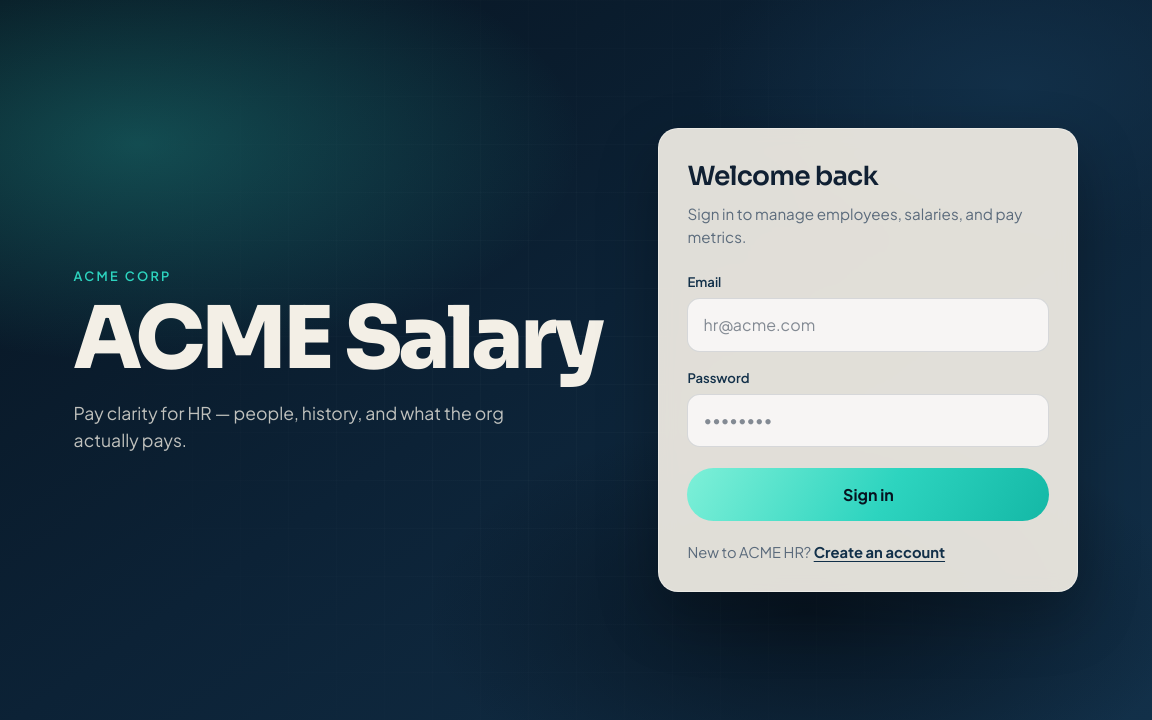
Test: Login page › shows API error on failed login
Type "bad@acme.com" into the field with placeholder "hr@acme.com" at (868, 325), box [687,298,1049,352]
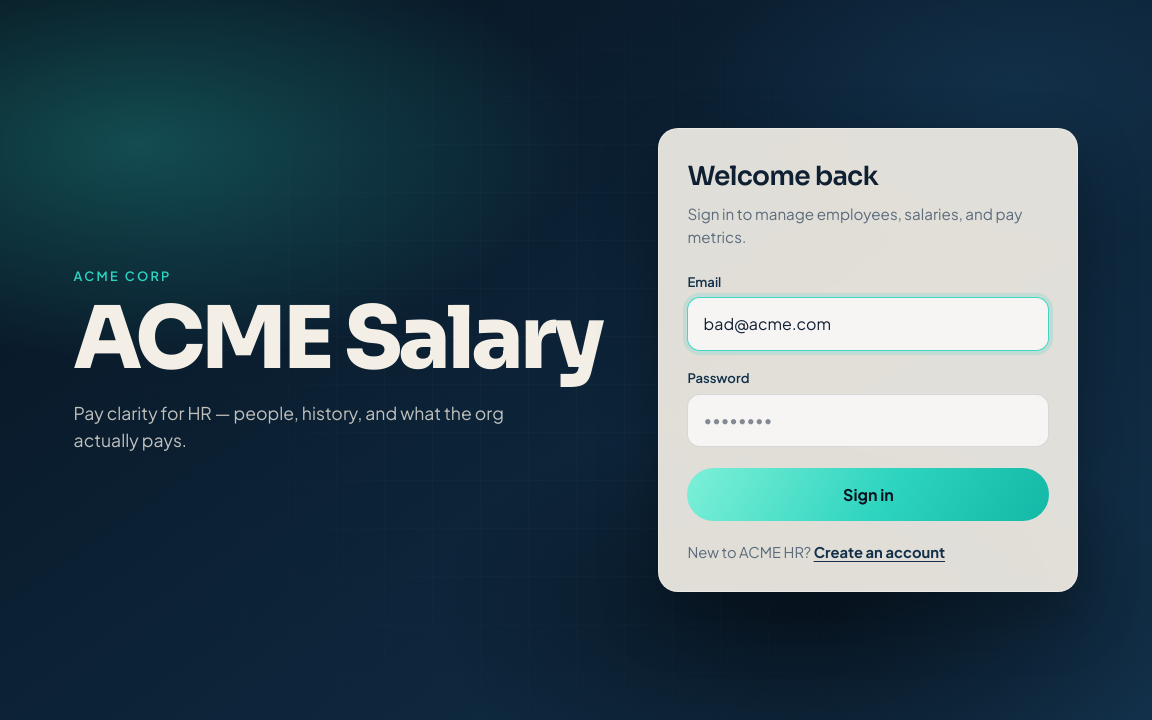
Type "wrongpass" into the password field with placeholder "••••••••" at (868, 420), box [687,394,1049,447]
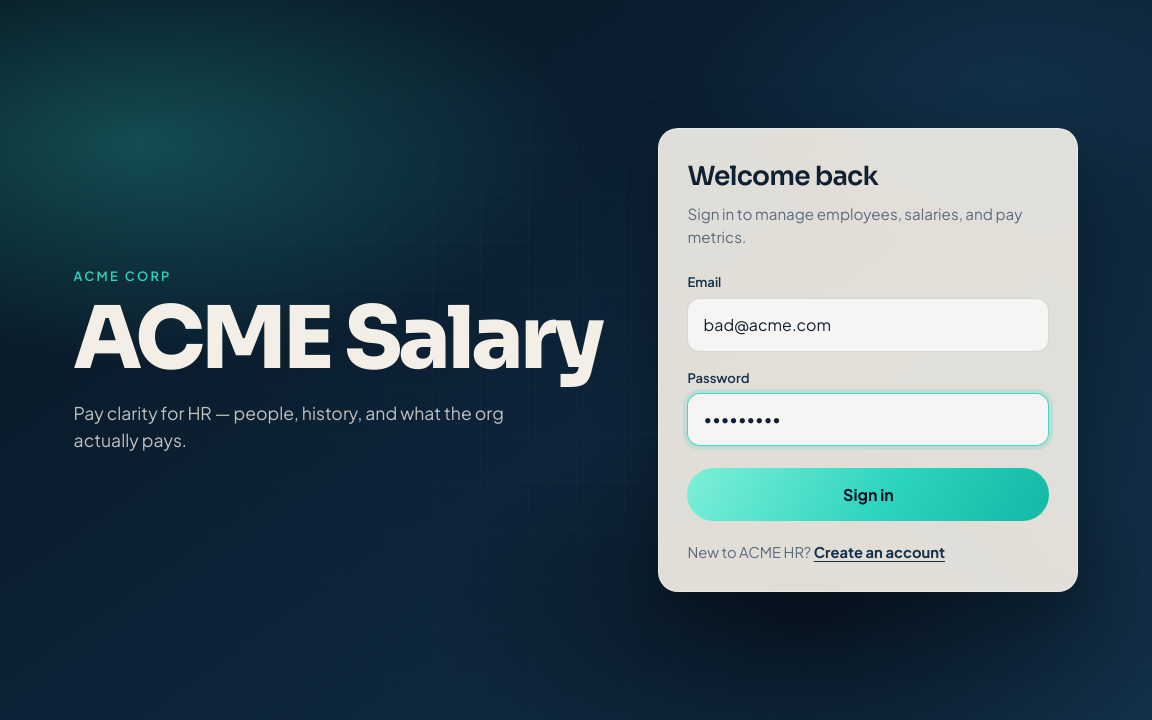
Click the button "Sign in" at (868, 495), box [687,468,1049,521]
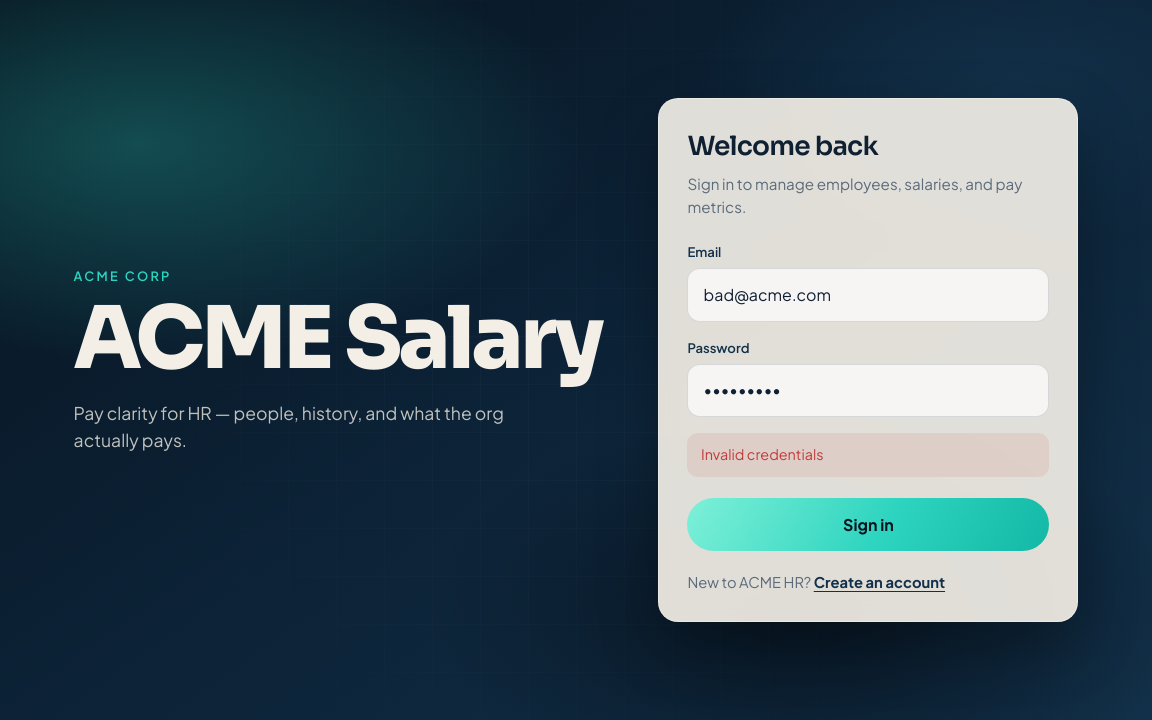
Result: the message reads "Invalid credentials" at [701,445,824,463]
